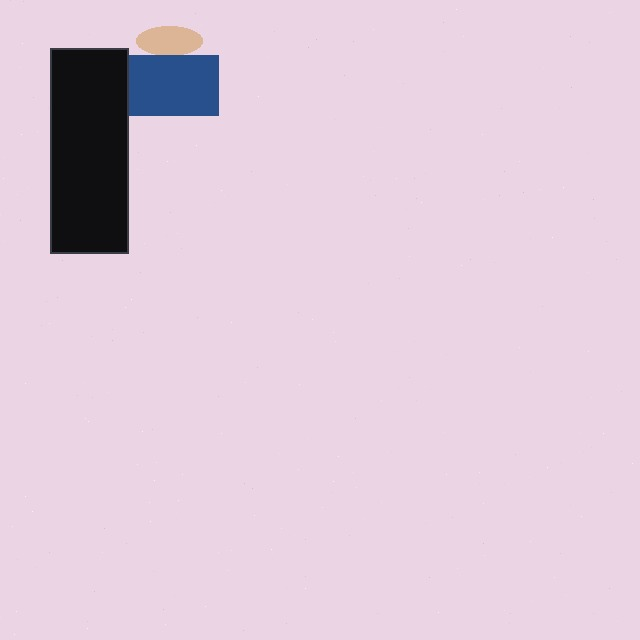person: (71, 26, 268, 115)
phone: (50, 48, 207, 253)
